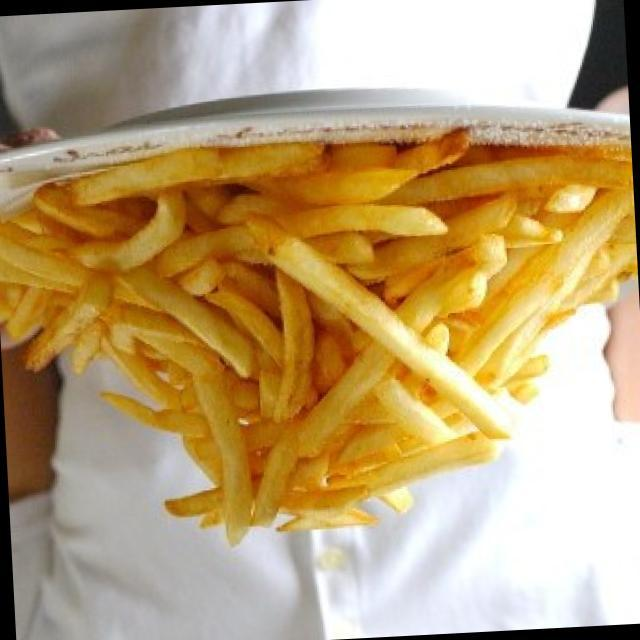French Fries: (0, 123, 599, 535)
